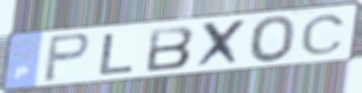B: (144, 24, 197, 74)
C: (299, 13, 348, 57)
L: (96, 32, 138, 77)
O: (248, 14, 298, 66)
P: (41, 31, 93, 84)
X: (192, 17, 250, 71)
